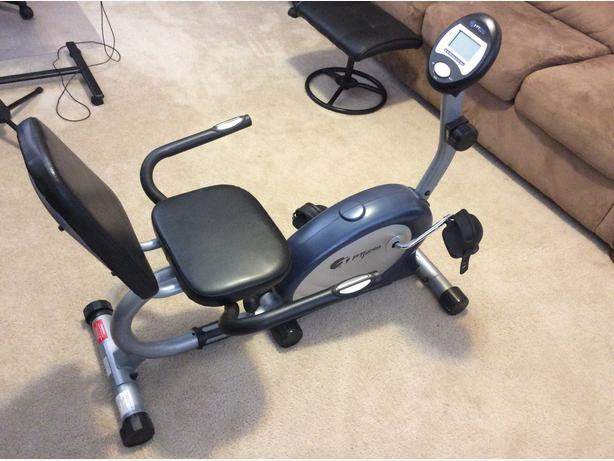gym_bike: (5, 18, 507, 437)
